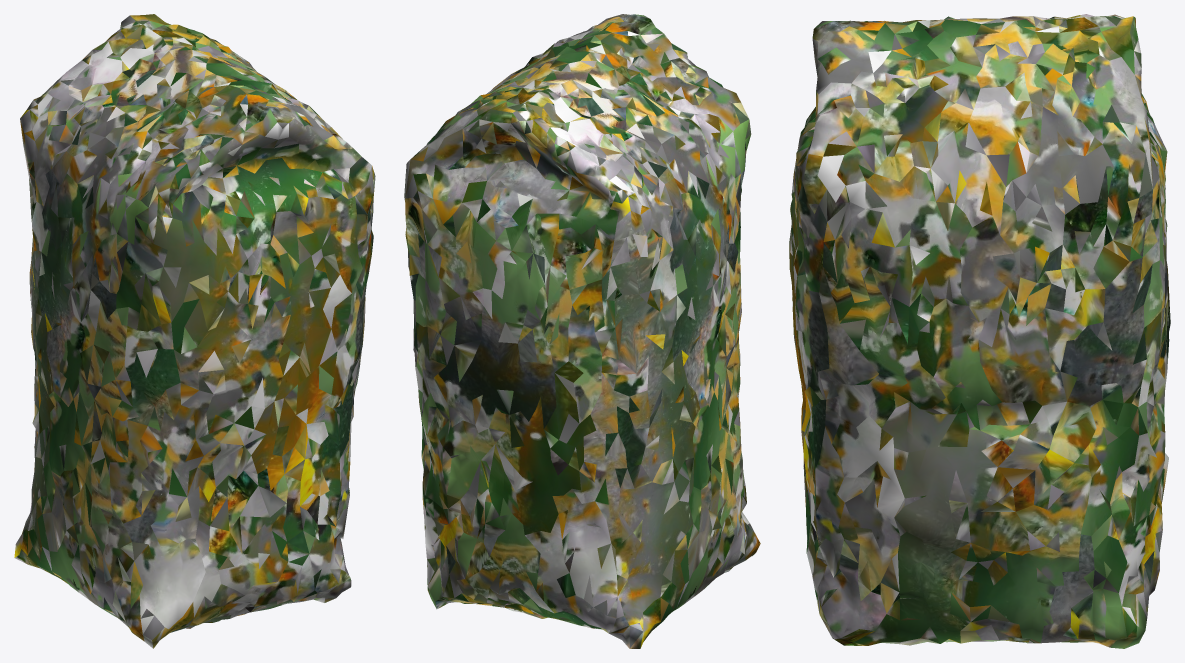
3 views of the same model, side by side, from view 1: azimuth 30°, elevation 25°; view 2: azimuth 150°, elevation 25°; view 3: azimuth 270°, elevation 25° (orthographic). The views are drawn at different scales.
Parts seen in each view (by area): view 1: model; view 2: model; view 3: model.
Boxes of the visible parts, bbox=[...] form: model: bbox=[14, 14, 375, 648]; model: bbox=[404, 14, 760, 648]; model: bbox=[789, 14, 1170, 648].
Bounding box in the file's own units: 0.4727 × 0.9075 × 0.5207.
